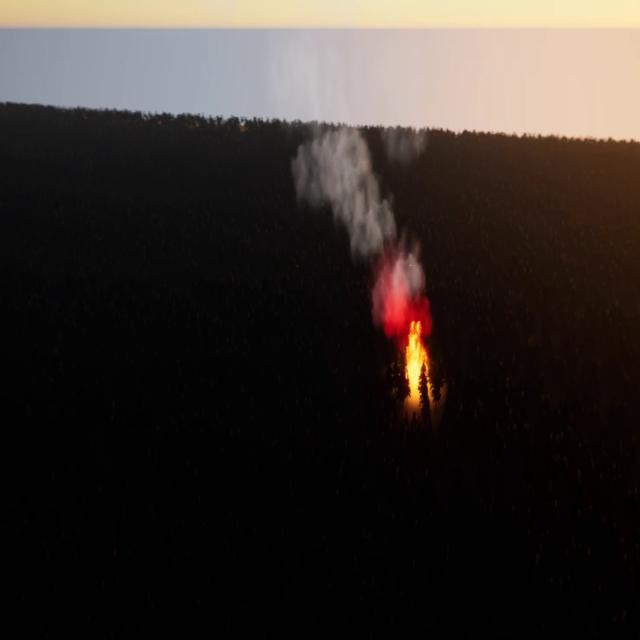fire: (402, 319, 432, 393)
smoke: (292, 120, 435, 334)
